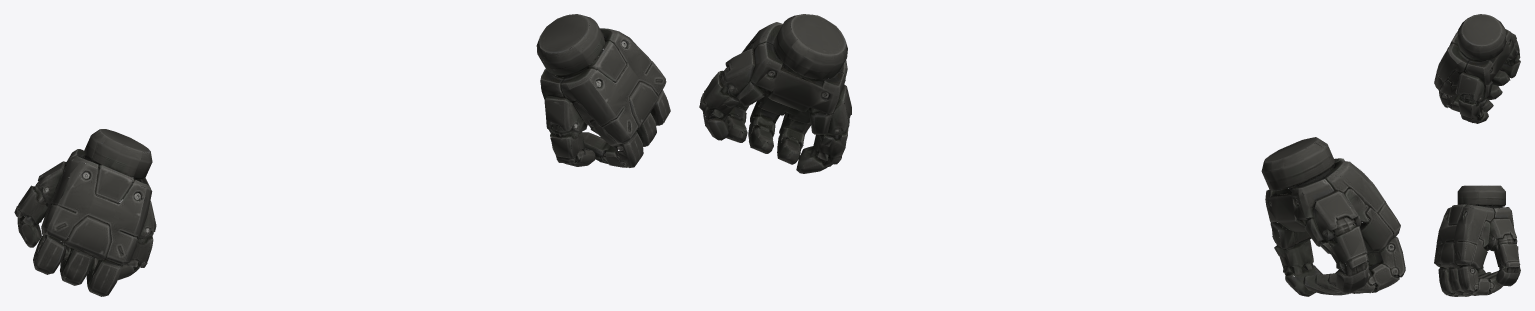
File: piece_hand_classic.glb
3 views of the same model, side by side, from view 1: azimuth 30°, elevation 25°; view 2: azimuth 150°, elevation 25°; view 3: azimuth 270°, elevation 25° (orthographic). The views are drawn at different scales.
Visible parts, largest first — view 1: trait_hand_classic_right, trait_hand_classic_left; view 2: trait_hand_classic_left, trait_hand_classic_right; view 3: trait_hand_classic_left, trait_hand_classic_right.
Part boxes in pixels (<box>): trait_hand_classic_right: <box>14,129,156,296</box>; trait_hand_classic_left: <box>536,14,670,167</box>; trait_hand_classic_left: <box>699,14,851,173</box>; trait_hand_classic_right: <box>1261,137,1405,296</box>; trait_hand_classic_left: <box>1434,185,1520,296</box>; trait_hand_classic_right: <box>1434,14,1520,123</box>.
Size of the model in its own units: 1.48 by 0.321 by 0.2405.
2 materials, 2 textured.
